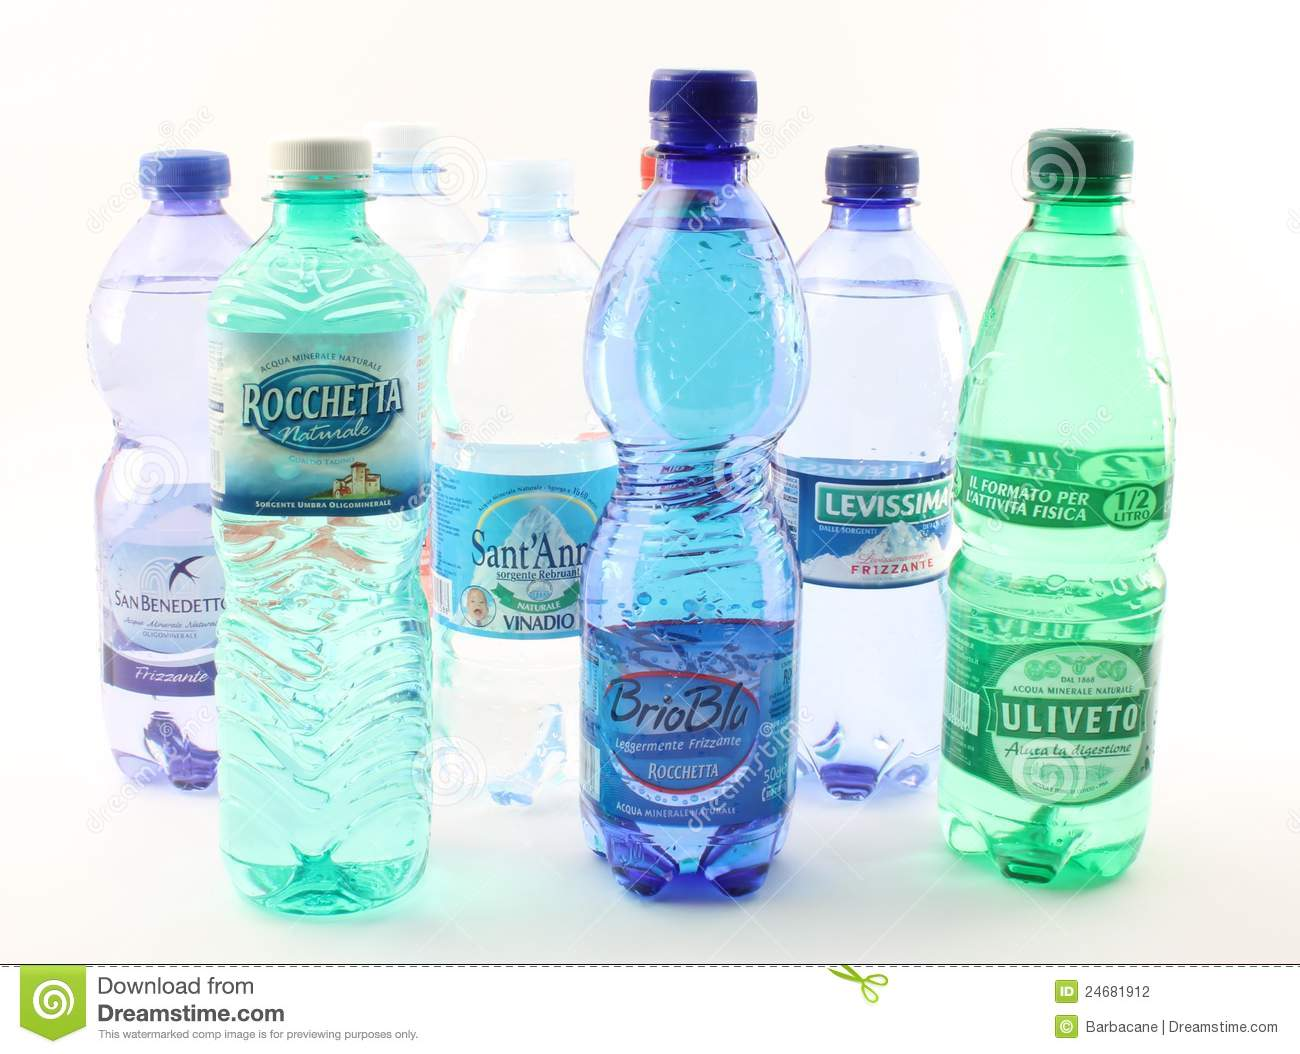PlasticBottle: (935, 126, 1180, 905), (208, 127, 446, 918), (594, 60, 798, 900)
